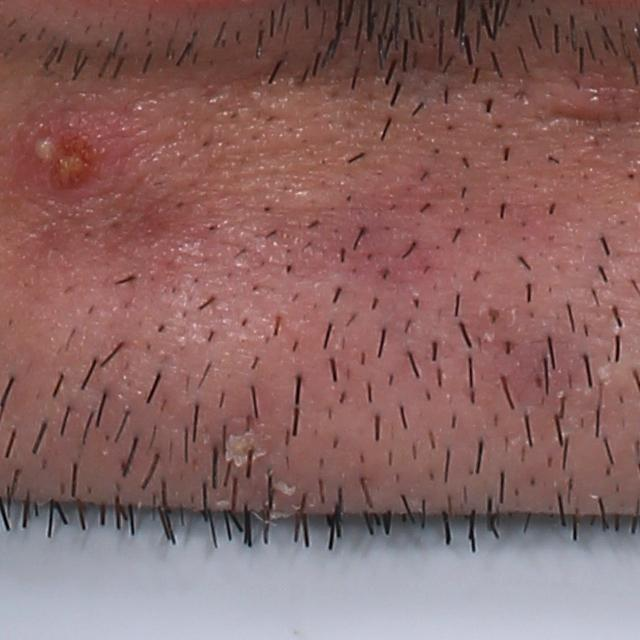hypertrophic_scar: (275, 176, 349, 212)
pustule: (18, 103, 109, 192)
